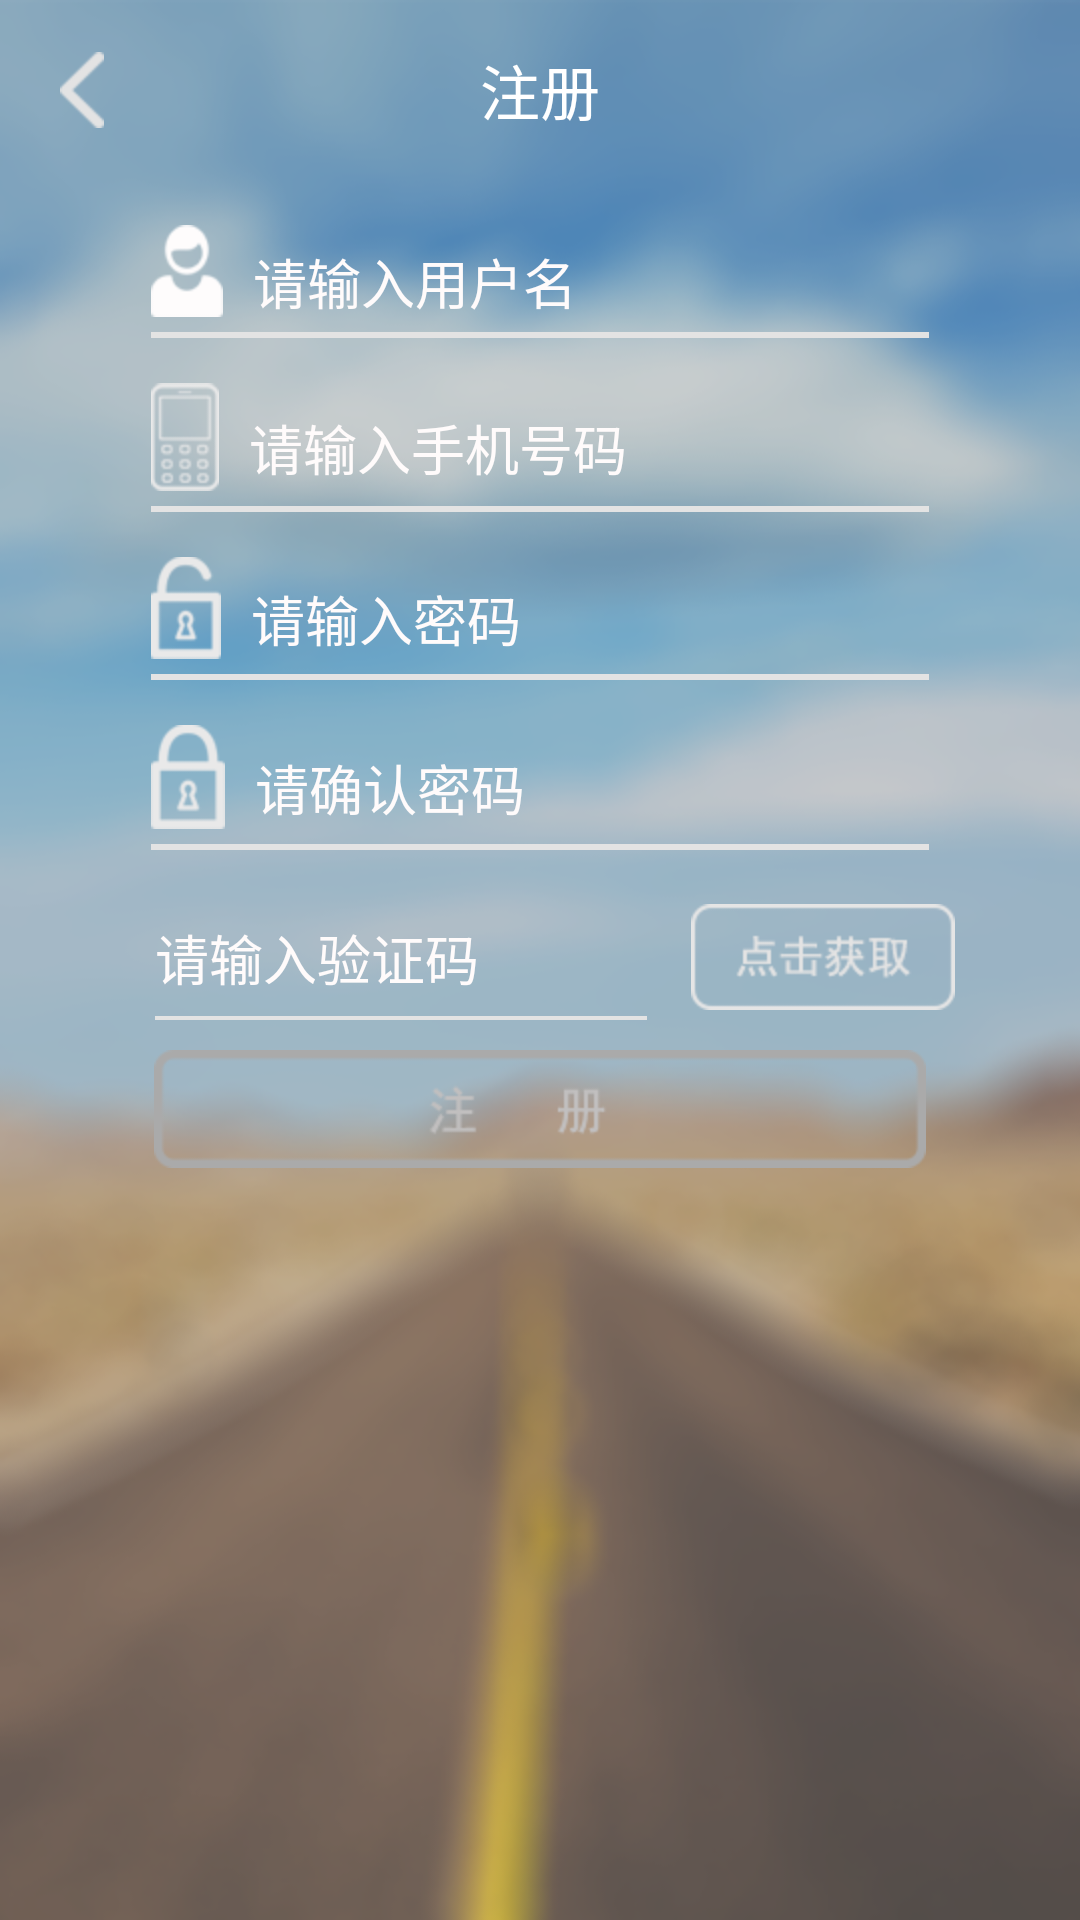

Where to tap for icons on this 1080 x 1920 app screen, as point (x, y):
registra back: point (82, 90)
registra phonenum: point (185, 437)
registration confirm password: point (188, 777)
registration inputpassword: point (186, 608)
user: point (187, 271)
